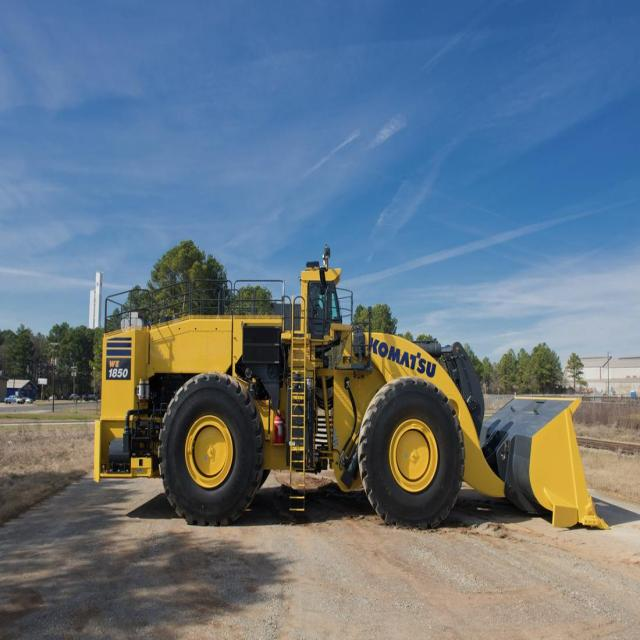buldozerpayloadergrader: (89, 258, 612, 542)
